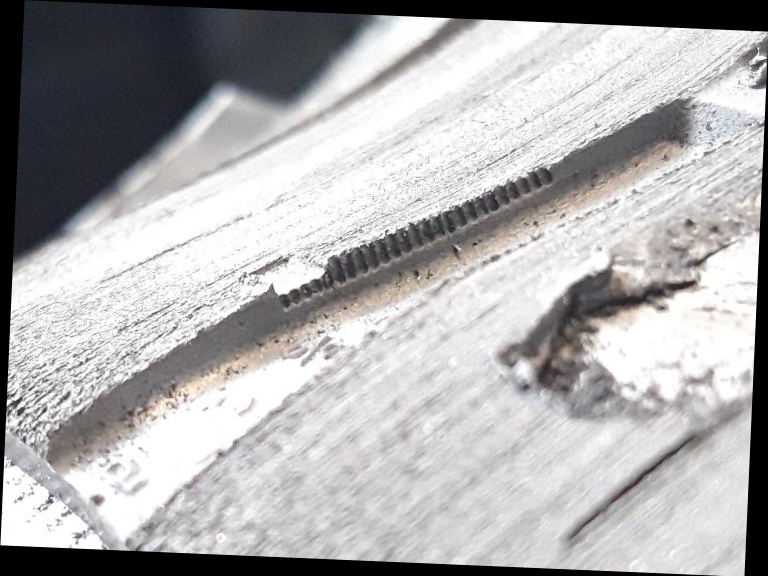temoin:0: (234, 205, 382, 327)
